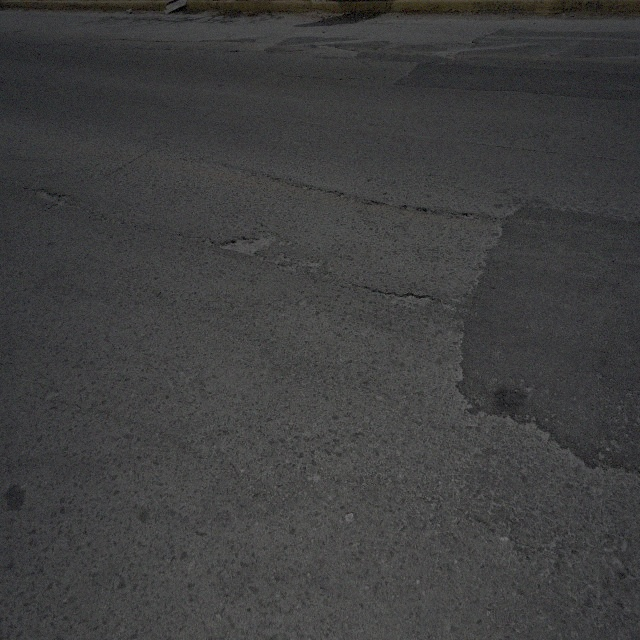pothole: (218, 231, 279, 259), (386, 286, 435, 308), (33, 188, 74, 214)
